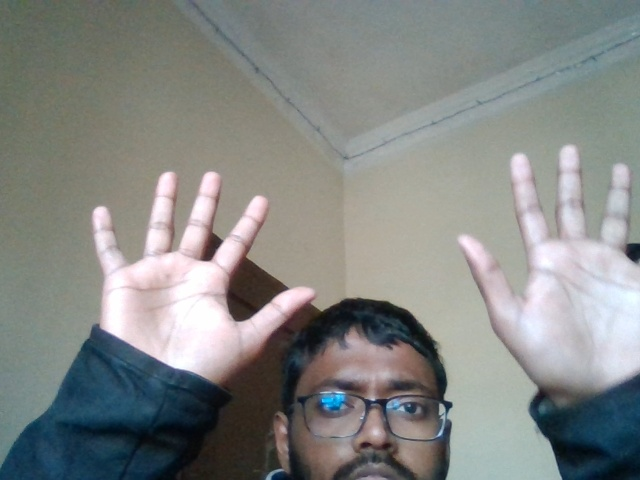Hello: (71, 149, 323, 374), (454, 150, 638, 377)
